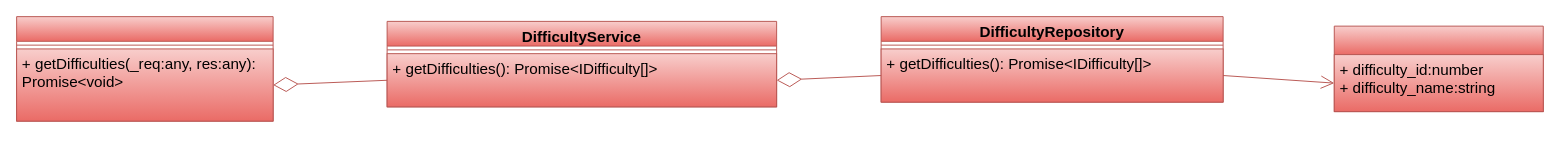
Some shapes in this 1560 by 141 pixel diagram are drawn without their labels. The box of each missing label's shape, as (x1, y1, x2, y2) in pixels:
DifficultyController: (16, 16, 273, 121)
IDifficulty: (1333, 25, 1543, 112)
